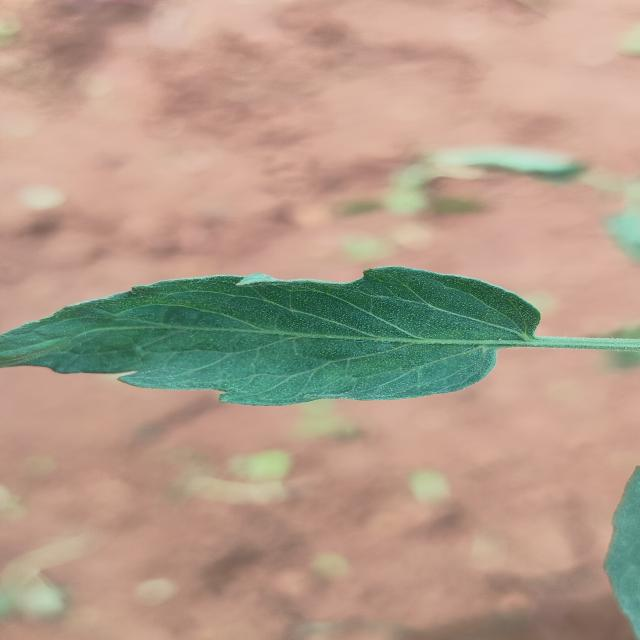tomato_healthy: (0, 257, 524, 407)
